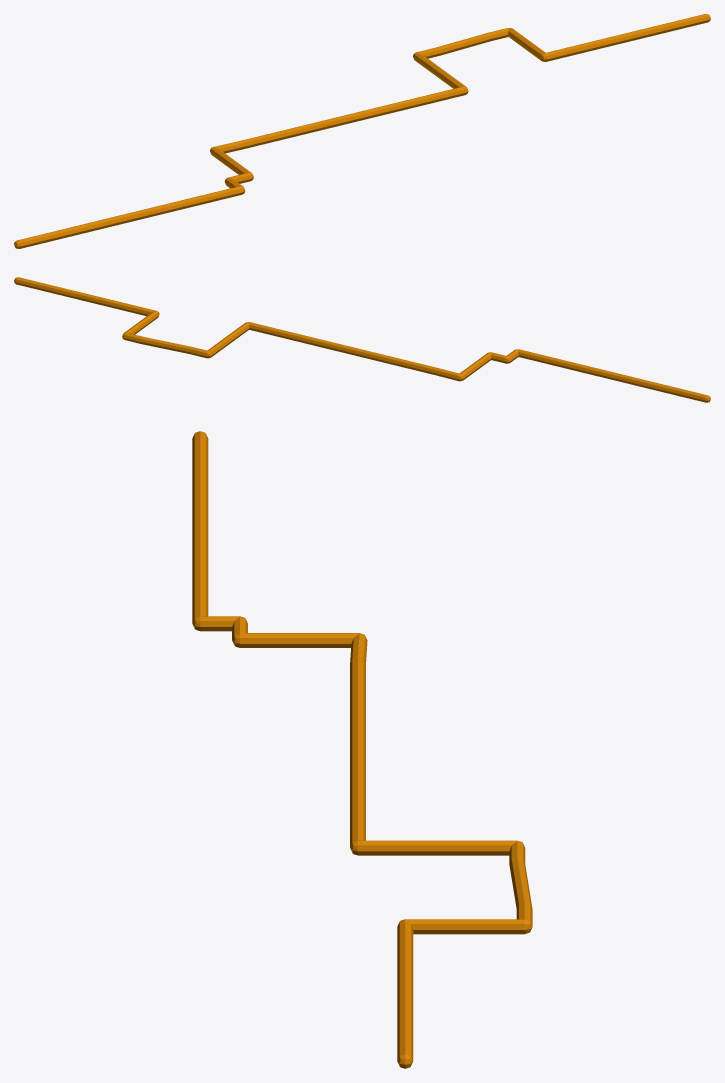
3 views of the same model, one above another, from view 1: azimuth 30°, elevation 25°; view 2: azimuth 150°, elevation 25°; view 3: azimuth 270°, elevation 25° (orthographic). The views are drawn at different scales.
Size of the model in its own units: 1870 by 20 by 427.
